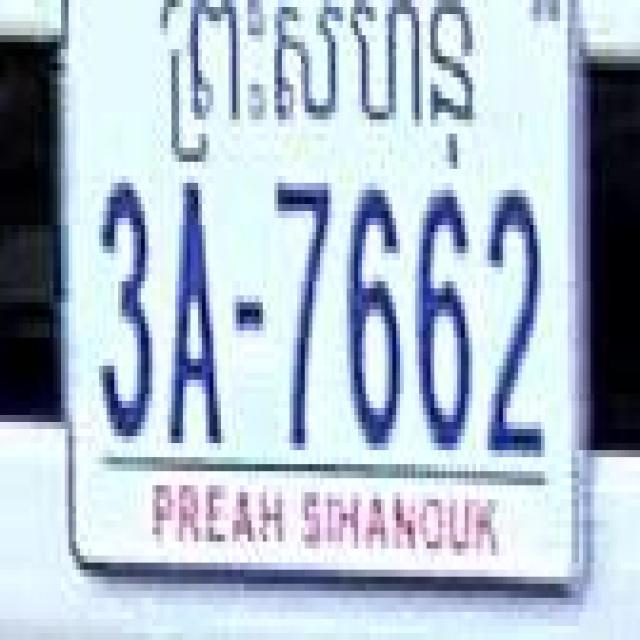Preah_Sihanouk: (160, 0, 473, 171)
